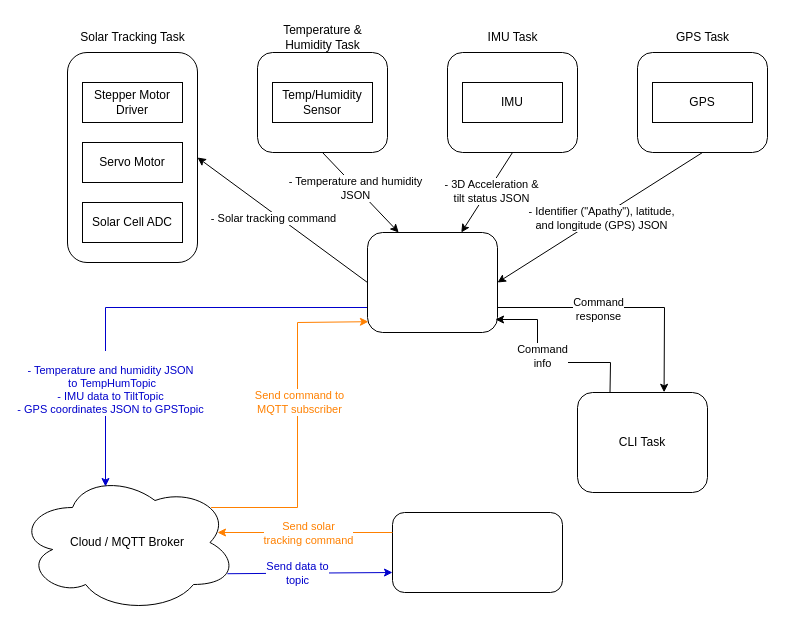
This 785x630 diagram has some shape labels left out. Each missing label, with the centre of its shape:
"Node-RED" belongs at (x=477, y=552).
"WiFi Task" belongs at (x=432, y=282).
